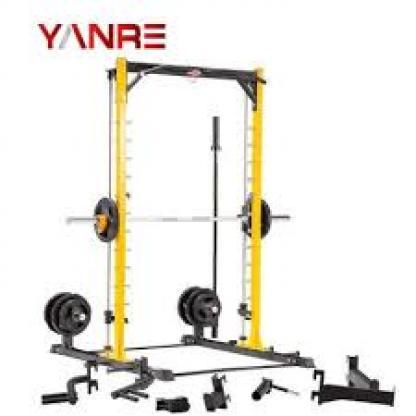smith machine: (66, 54, 319, 375)
